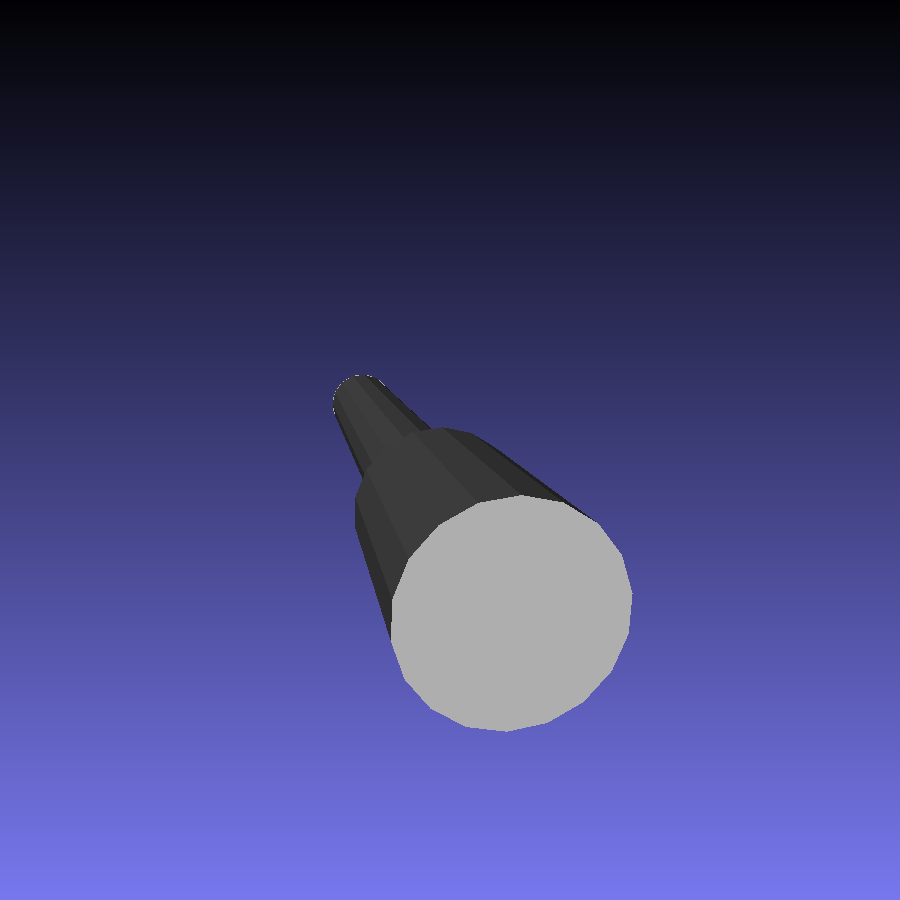cargo_g: (332, 372, 633, 729)
